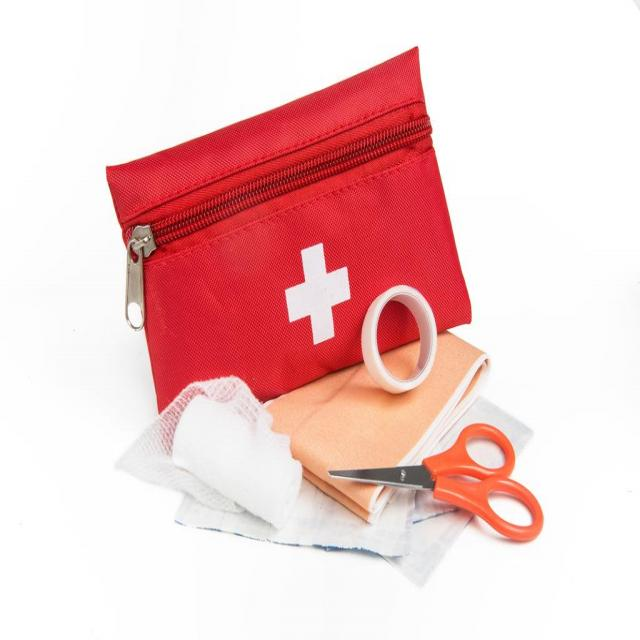scissor: (327, 417, 546, 539)
